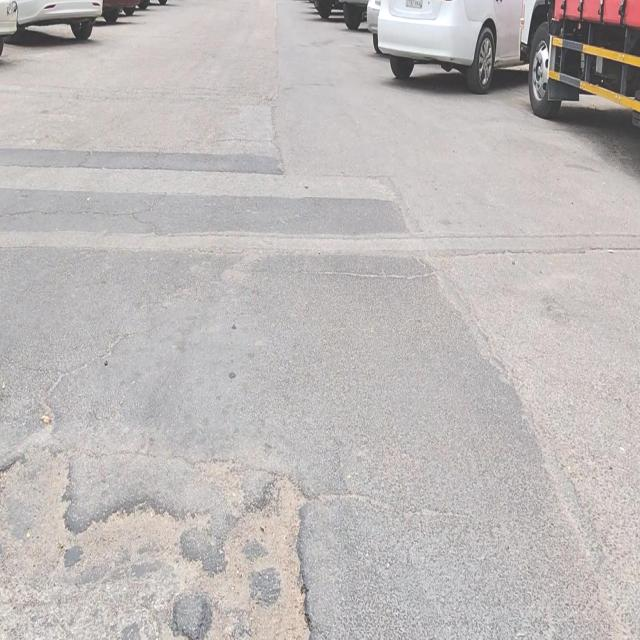Potholes: (65, 492, 216, 640), (195, 468, 315, 640)
